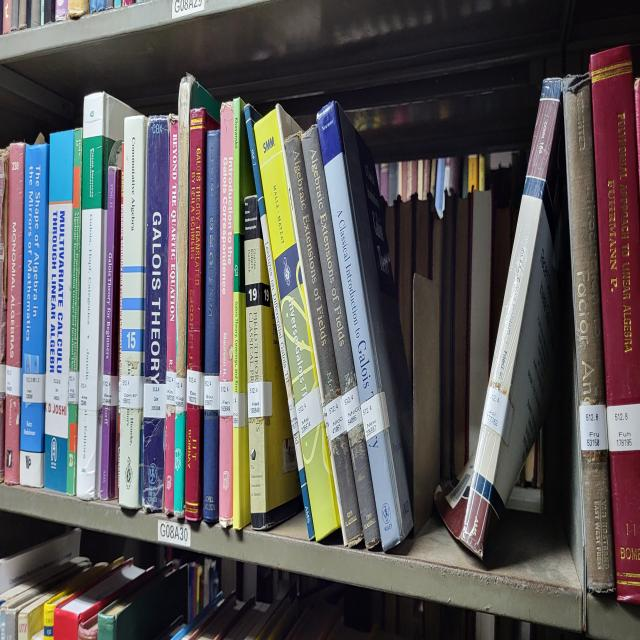Book: (254, 106, 340, 541), (301, 124, 380, 549), (284, 133, 362, 547), (244, 103, 315, 538), (76, 92, 135, 501), (174, 73, 220, 519), (244, 195, 302, 530), (185, 106, 219, 522), (119, 116, 148, 509), (44, 130, 74, 492), (142, 116, 169, 511), (20, 143, 50, 487), (232, 97, 254, 530), (4, 143, 26, 484), (202, 130, 220, 522), (100, 165, 121, 498), (219, 103, 234, 528), (164, 116, 179, 514), (66, 127, 82, 495), (156, 325, 165, 465)
Label: (482, 384, 514, 444), (606, 403, 640, 452), (295, 387, 324, 438), (579, 403, 608, 452), (361, 392, 389, 441), (324, 395, 346, 441), (341, 387, 362, 433), (248, 381, 272, 419), (144, 381, 166, 419), (120, 376, 144, 409), (22, 373, 45, 403), (186, 368, 204, 406), (102, 373, 119, 406), (232, 392, 248, 427), (6, 365, 22, 398), (204, 376, 219, 411), (219, 381, 232, 417), (175, 376, 186, 414), (288, 398, 299, 436), (166, 371, 176, 406), (69, 371, 79, 403), (361, 406, 364, 414)
